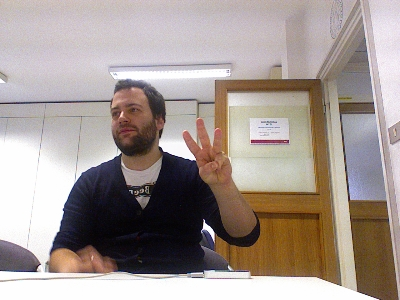三分: (180, 115, 236, 184)
